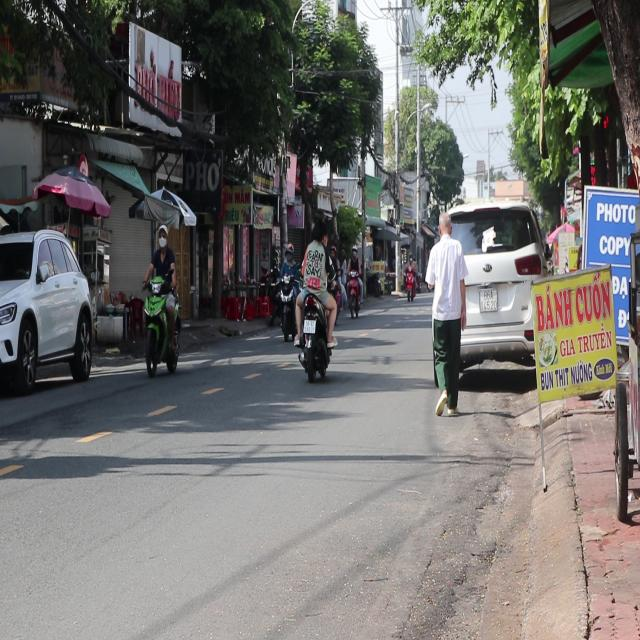licenseplate: (294, 211, 339, 380), (141, 223, 182, 376)
motorcyclist: (312, 215, 327, 244), (157, 224, 169, 249)
nohelmet: (303, 319, 315, 333)
